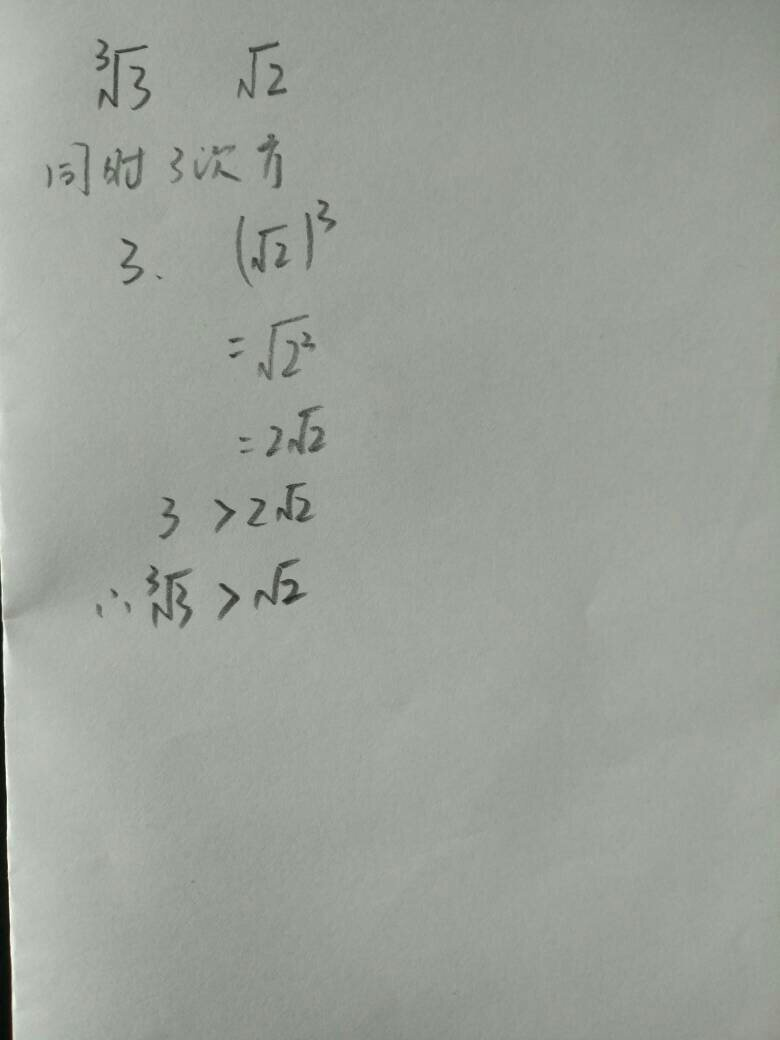cube: (312, 195, 341, 232), (298, 332, 317, 357)
sqrt: (264, 310, 323, 390), (249, 555, 311, 613), (289, 403, 336, 456), (278, 475, 317, 532)
